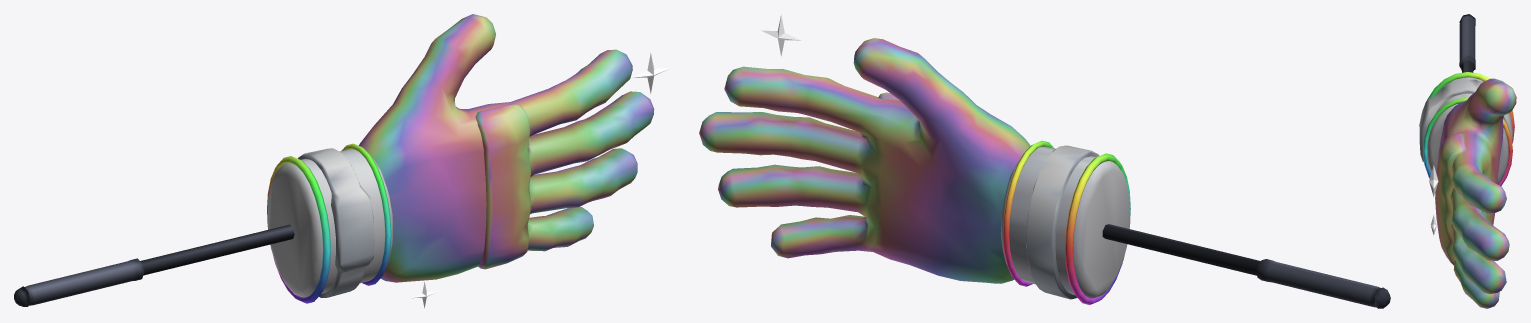
The model's file is glove_rainbow.glb.
3 views of the same model, side by side, from view 1: azimuth 30°, elevation 25°; view 2: azimuth 150°, elevation 25°; view 3: azimuth 270°, elevation 25° (orthographic). The views are drawn at different scales.
Visible parts, largest first — view 1: Glove, Stick, Glow; view 2: Glove, Stick, Glow; view 3: Glove, Glow, Stick.
Boxes of the visible parts, x1,y1,x2,y2 form: Glove: (267,14,654,297); Stick: (14,224,294,306); Glow: (267,52,669,307); Glove: (699,38,1130,299); Stick: (1102,224,1390,308); Glow: (761,14,1130,304); Glove: (1419,77,1516,308); Glow: (1423,72,1514,235); Stick: (1459,14,1475,72).
Bounding box in the file's own units: 1.17 × 0.4102 × 0.1922.
